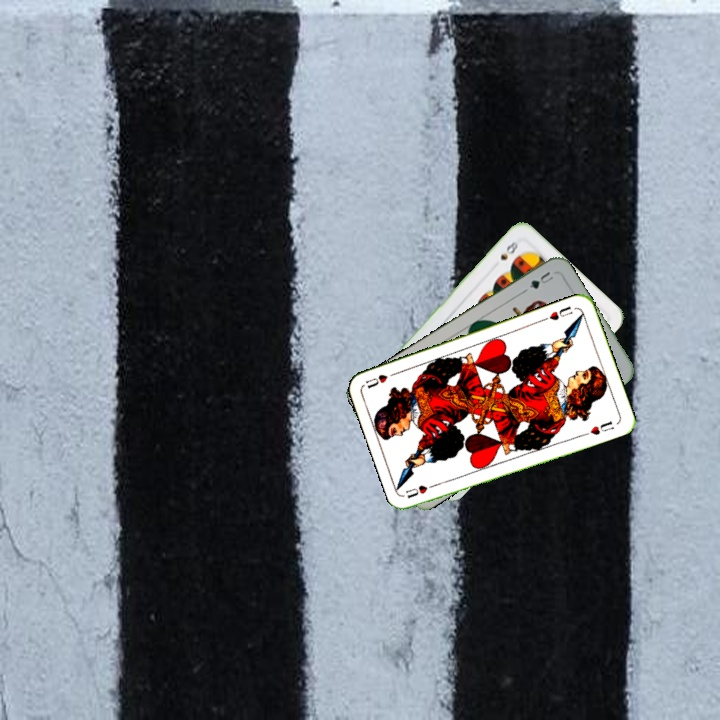GU: (520, 267, 556, 294)
HU: (402, 479, 441, 500), (545, 302, 575, 323)
S8: (496, 237, 521, 263)
